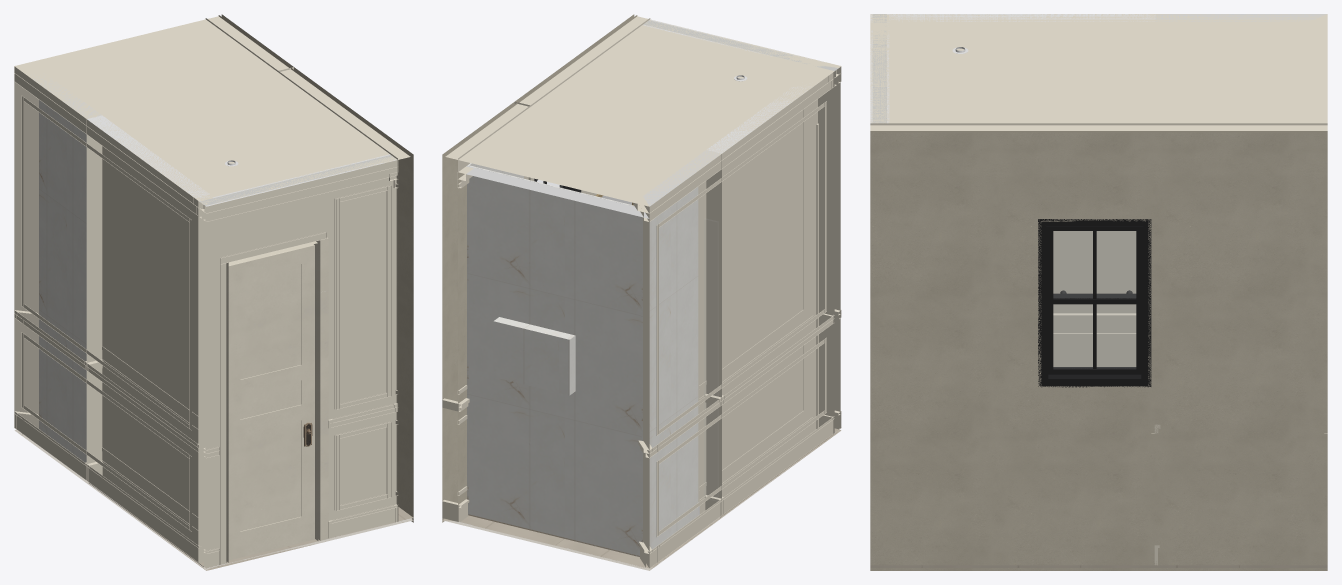
File: loli-bathroom-507ae424c143.glb
3 views of the same model, side by side, from view 1: azimuth 30°, elevation 25°; view 2: azimuth 150°, elevation 25°; view 3: azimuth 270°, elevation 25° (orthographic). The views are drawn at different scales.
Parts seen in each view (by area): view 1: loli-bathroom-2575515a05775d9e, loli-bathroom-03bdd0165789d12b, loli-bathroom-0e637d2be41161fb, loli-bathroom-eceff908bd344cec, loli-bathroom-5795d1714989146e, loli-bathroom-e64cabe238f3e83a, loli-bathroom-319244b3406409d9, loli-bathroom-4a0606b58a607568, loli-bathroom-a8b6749dbb482e83, loli-bathroom-609bc1027670cc96, loli-bathroom-cc15fd6f291c811e, loli-bathroom-e2dd6cf138a61c96 (+19 smaller); view 2: loli-bathroom-51561c1911f47dcb, loli-bathroom-2575515a05775d9e, loli-bathroom-03bdd0165789d12b, loli-bathroom-5795d1714989146e, loli-bathroom-1c7325212038a6e7, loli-bathroom-e462de76b61e99cf, loli-bathroom-a90dd75c175210c7, loli-bathroom-0e637d2be41161fb, loli-bathroom-e64cabe238f3e83a, loli-bathroom-a8b6749dbb482e83, loli-bathroom-cc15fd6f291c811e, loli-bathroom-92c333610bf7beb4 (+13 smaller); view 3: loli-bathroom-319244b3406409d9, loli-bathroom-e462de76b61e99cf, loli-bathroom-2575515a05775d9e, loli-bathroom-15d1eb52c435a27e, loli-bathroom-03bdd0165789d12b, loli-bathroom-0e637d2be41161fb, loli-bathroom-3b0077416469e01b, loli-bathroom-76fec1e12e3db62a, loli-bathroom-1c7325212038a6e7, loli-bathroom-3b79cb6a0eb20f8c, loli-bathroom-687fd4d2e321b111.
Boxes of the visible parts, bbox=[...] form: loli-bathroom-2575515a05775d9e: bbox=[14, 15, 410, 201]; loli-bathroom-03bdd0165789d12b: bbox=[86, 115, 209, 560]; loli-bathroom-0e637d2be41161fb: bbox=[198, 154, 397, 568]; loli-bathroom-eceff908bd344cec: bbox=[228, 244, 314, 560]; loli-bathroom-5795d1714989146e: bbox=[39, 100, 86, 462]; loli-bathroom-e64cabe238f3e83a: bbox=[14, 78, 38, 428]; loli-bathroom-319244b3406409d9: bbox=[278, 67, 413, 521]; loli-bathroom-4a0606b58a607568: bbox=[318, 237, 328, 540]; loli-bathroom-a8b6749dbb482e83: bbox=[14, 412, 199, 562]; loli-bathroom-609bc1027670cc96: bbox=[206, 160, 398, 221]; loli-bathroom-cc15fd6f291c811e: bbox=[14, 67, 199, 216]; loli-bathroom-e2dd6cf138a61c96: bbox=[220, 232, 326, 564]; loli-bathroom-51561c1911f47dcb: bbox=[467, 165, 642, 556]; loli-bathroom-2575515a05775d9e: bbox=[445, 15, 840, 206]; loli-bathroom-03bdd0165789d12b: bbox=[707, 86, 833, 482]; loli-bathroom-5795d1714989146e: bbox=[641, 187, 698, 549]; loli-bathroom-1c7325212038a6e7: bbox=[643, 150, 721, 567]; loli-bathroom-e462de76b61e99cf: bbox=[442, 102, 530, 502]; loli-bathroom-a90dd75c175210c7: bbox=[493, 317, 575, 395]; loli-bathroom-0e637d2be41161fb: bbox=[643, 19, 840, 433]; loli-bathroom-e64cabe238f3e83a: bbox=[458, 165, 649, 548]; loli-bathroom-a8b6749dbb482e83: bbox=[649, 417, 834, 567]; loli-bathroom-cc15fd6f291c811e: bbox=[649, 72, 834, 221]; loli-bathroom-92c333610bf7beb4: bbox=[656, 101, 826, 435]; loli-bathroom-319244b3406409d9: bbox=[870, 123, 1155, 565]; loli-bathroom-e462de76b61e99cf: bbox=[1155, 123, 1327, 565]; loli-bathroom-2575515a05775d9e: bbox=[870, 14, 1327, 132]; loli-bathroom-15d1eb52c435a27e: bbox=[1038, 219, 1151, 387]; loli-bathroom-03bdd0165789d12b: bbox=[889, 14, 1155, 366]; loli-bathroom-0e637d2be41161fb: bbox=[870, 14, 889, 123]; loli-bathroom-3b0077416469e01b: bbox=[870, 565, 1327, 567]; loli-bathroom-76fec1e12e3db62a: bbox=[870, 568, 1327, 570]; loli-bathroom-1c7325212038a6e7: bbox=[1155, 14, 1326, 21]; loli-bathroom-3b79cb6a0eb20f8c: bbox=[1053, 313, 1136, 323]; loli-bathroom-687fd4d2e321b111: bbox=[872, 14, 883, 123].
Size of the model in its own units: 1.8 by 3.05 by 2.88.
Materials: 42 (7 with a texture image).
